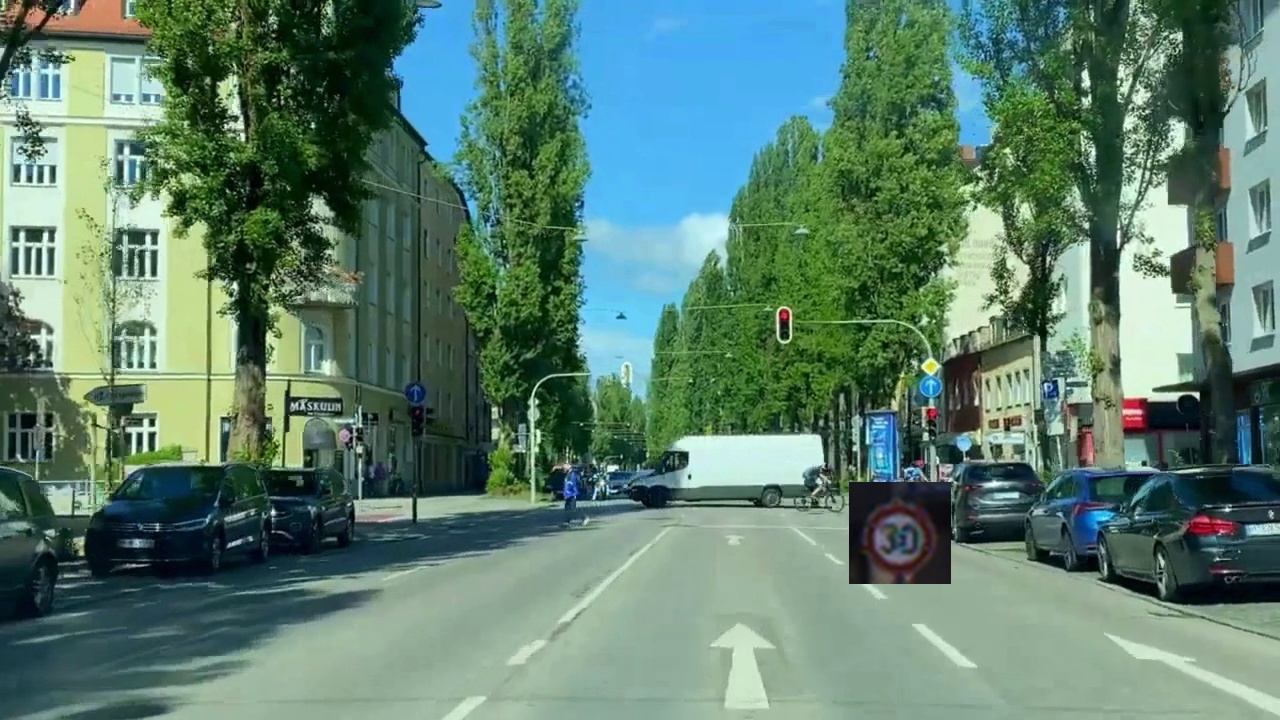Speed 30: (849, 482, 951, 584)
